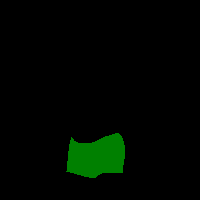mutande: (66, 132, 125, 178)
